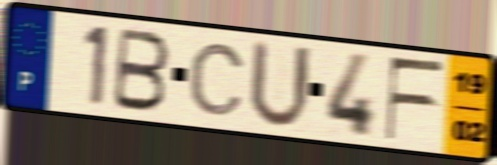1: (81, 23, 113, 109)
4: (323, 51, 380, 139)
B: (109, 25, 173, 115)
C: (187, 40, 248, 118)
F: (383, 55, 448, 144)
U: (245, 36, 314, 132)
